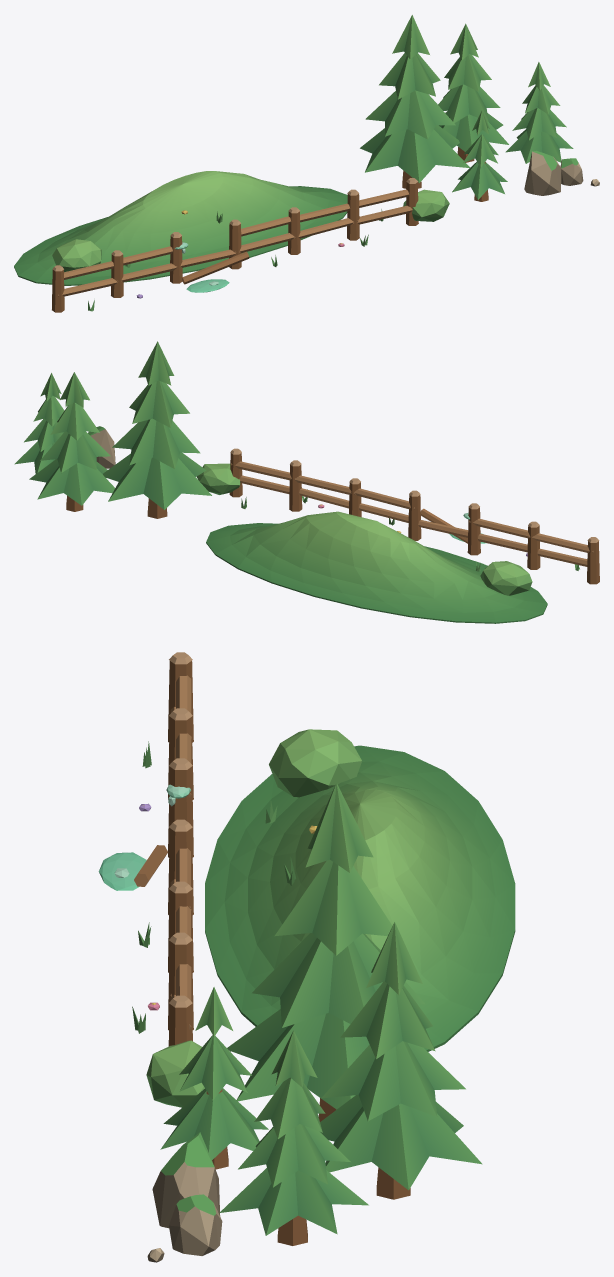
The model's file is ranch_border_chunk_c.fbx.
The picture shows the model from 3 angles, top to bottom: view 1: azimuth 30°, elevation 25°; view 2: azimuth 150°, elevation 25°; view 3: azimuth 270°, elevation 25°; orthographic projection. The views are drawn at different scales.
Parts seen in each view (by area): view 1: ranch_border_chunk_c; view 2: ranch_border_chunk_c; view 3: ranch_border_chunk_c.
Boxes of the visible parts, box(x1,y1,x2,y2) form: ranch_border_chunk_c: box(14, 15, 599, 312); ranch_border_chunk_c: box(14, 341, 599, 623); ranch_border_chunk_c: box(98, 652, 515, 1262).
Bounding box in the file's own units: 55.83 × 17.03 × 18.6.
